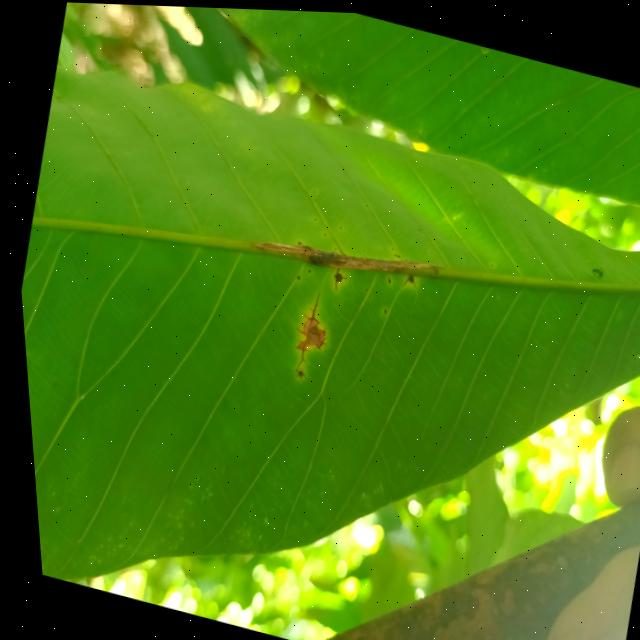Colletotrichum: (291, 272, 295, 277), (302, 267, 305, 270), (334, 224, 337, 226), (319, 230, 321, 232), (329, 245, 331, 247)
Corynespora: (276, 283, 335, 384), (325, 262, 345, 293), (287, 361, 301, 378)
